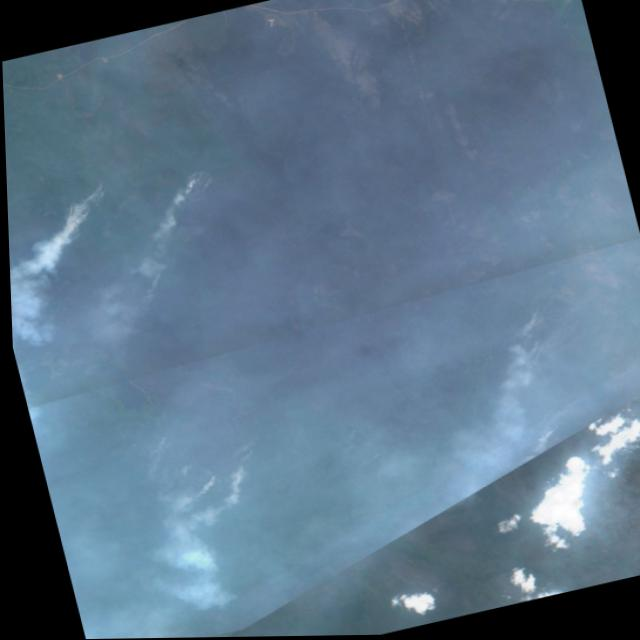fire: (178, 451, 271, 516), (143, 158, 226, 223), (37, 184, 118, 250)
